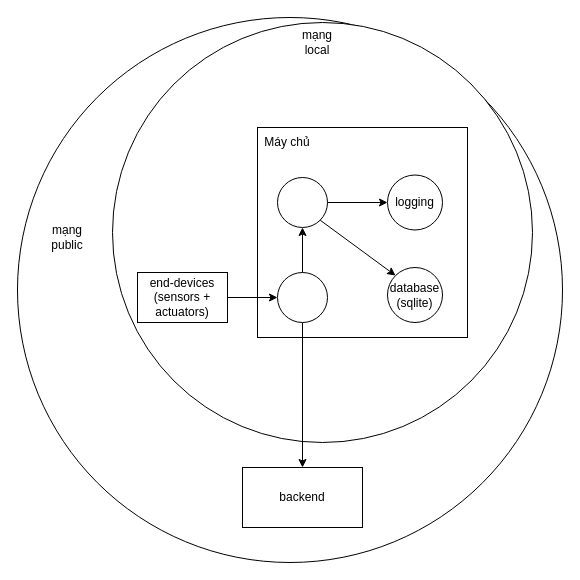
The diagram is 580 pixels wide and 580 high, and some of its shapes have lost their labels. The centre of each missing label's shape, as x and y in pixels:
broker (emqx): the point at 302,297
main.py: the point at 302,202
